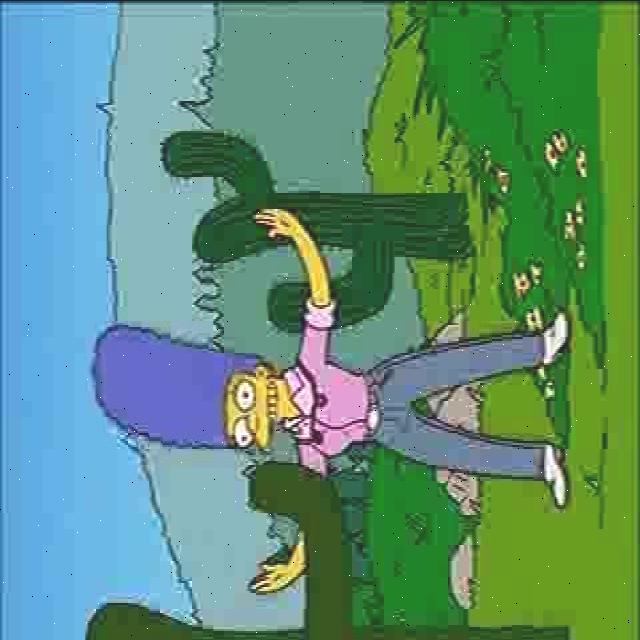Marge Simpson: (90, 319, 298, 453)
